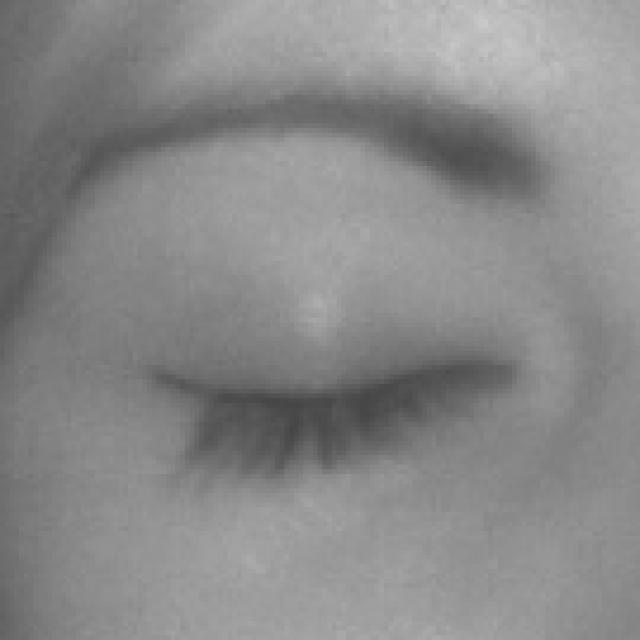Eyeclosed: (152, 242, 518, 596)
